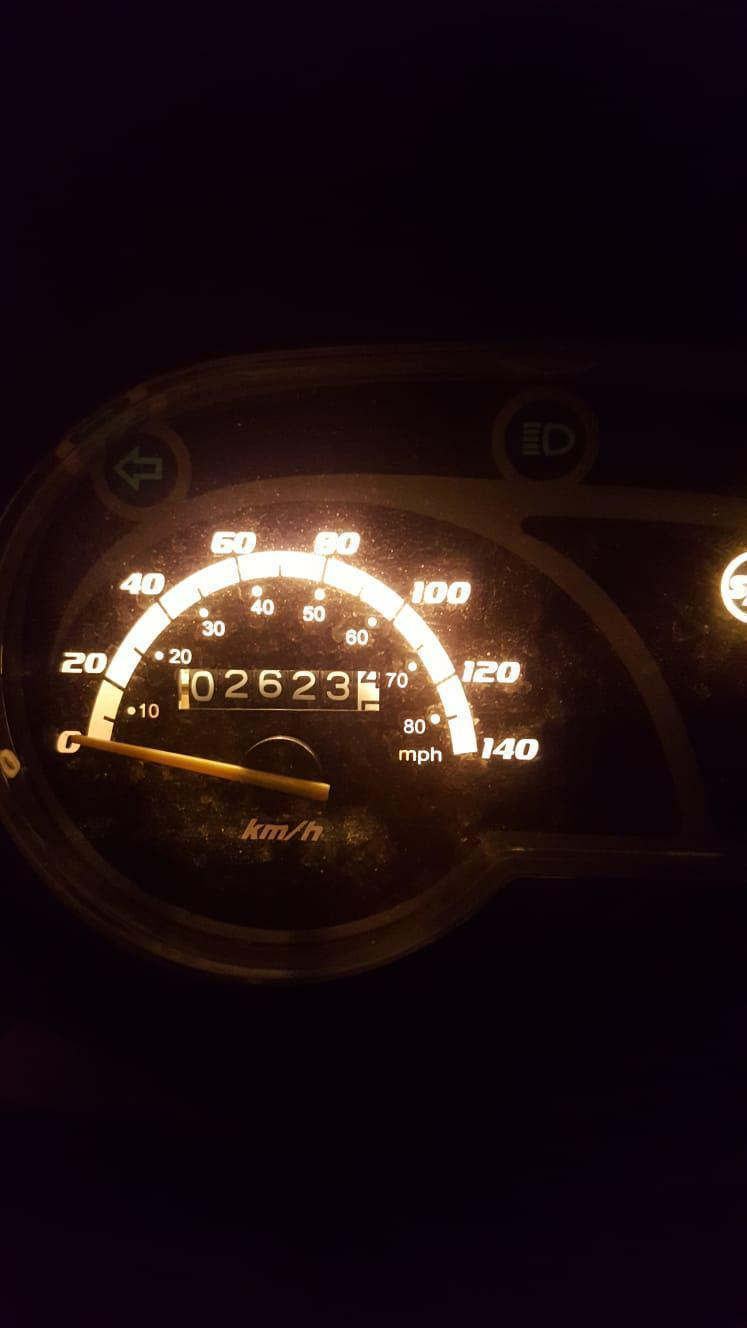0: (190, 668, 216, 701)
2: (291, 668, 319, 702), (224, 666, 250, 701)
3: (326, 670, 350, 701)
4: (358, 668, 380, 693)
6: (258, 668, 285, 698)
odometer: (177, 667, 383, 714)
